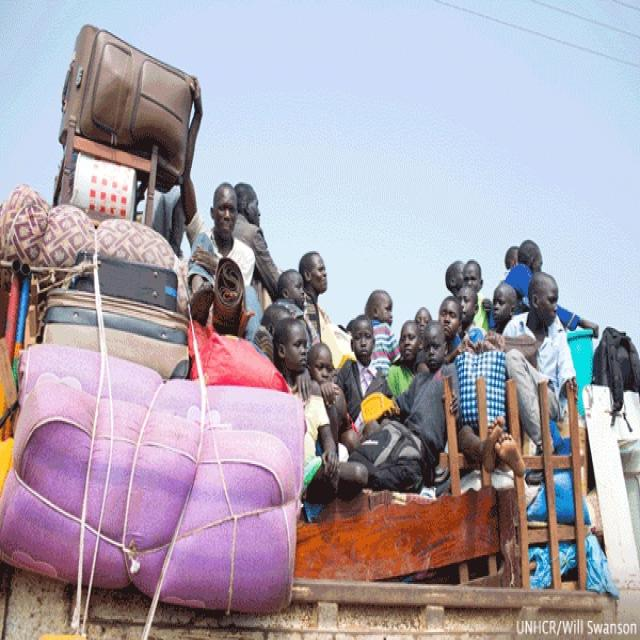body: (178, 72, 275, 366), (276, 256, 370, 496), (411, 293, 528, 483), (500, 269, 579, 486), (270, 315, 342, 523), (409, 244, 526, 350), (390, 318, 462, 490), (488, 237, 600, 339), (229, 179, 283, 317), (335, 310, 399, 426), (149, 154, 188, 275), (364, 286, 403, 382), (296, 250, 333, 348), (386, 317, 425, 400)
